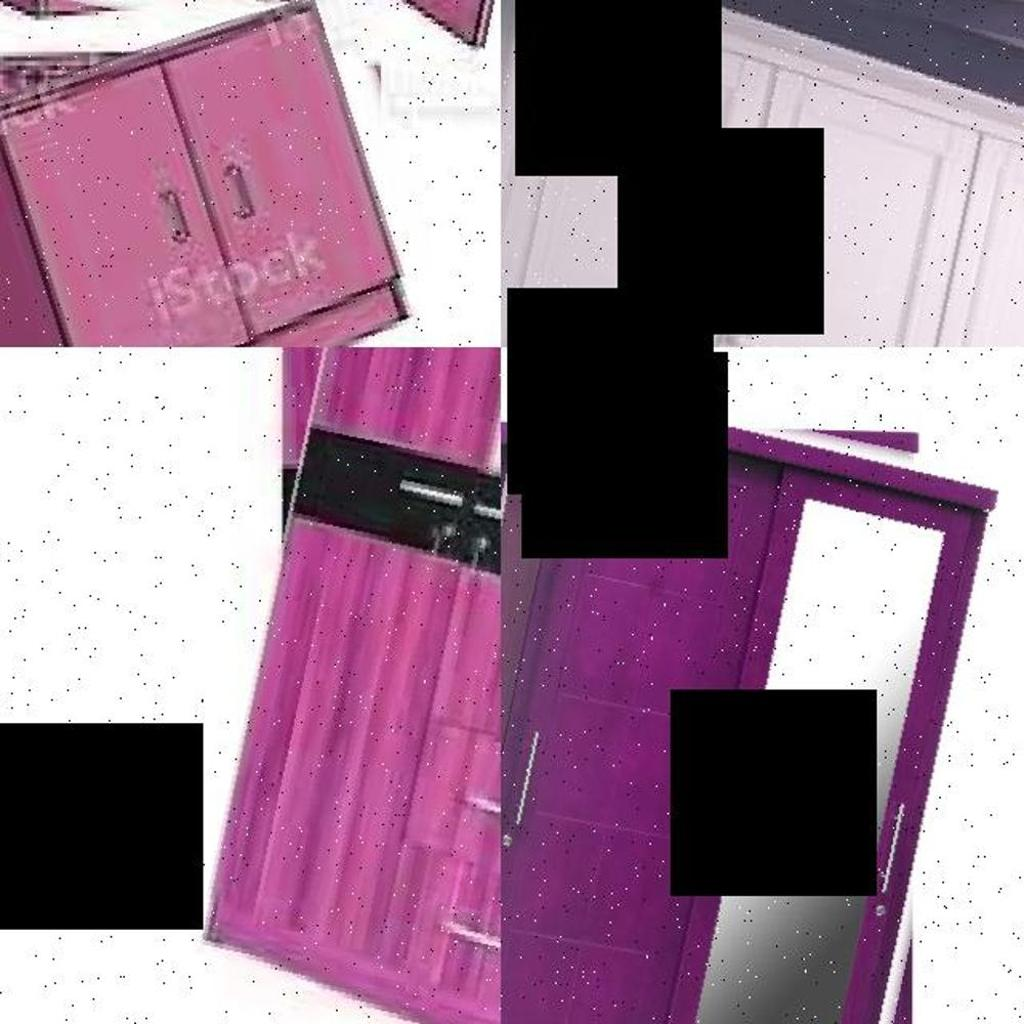cabinet: (501, 392, 968, 1024), (230, 347, 501, 1024), (501, 0, 1024, 347), (0, 18, 438, 347), (0, 0, 501, 238)
